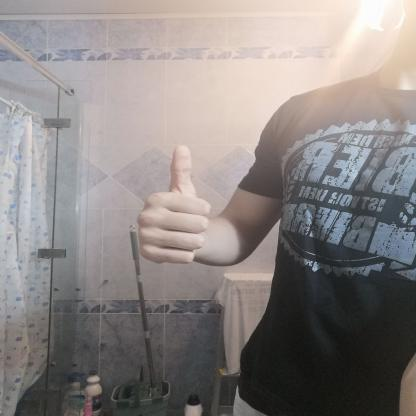ALIF: (124, 137, 226, 276)
